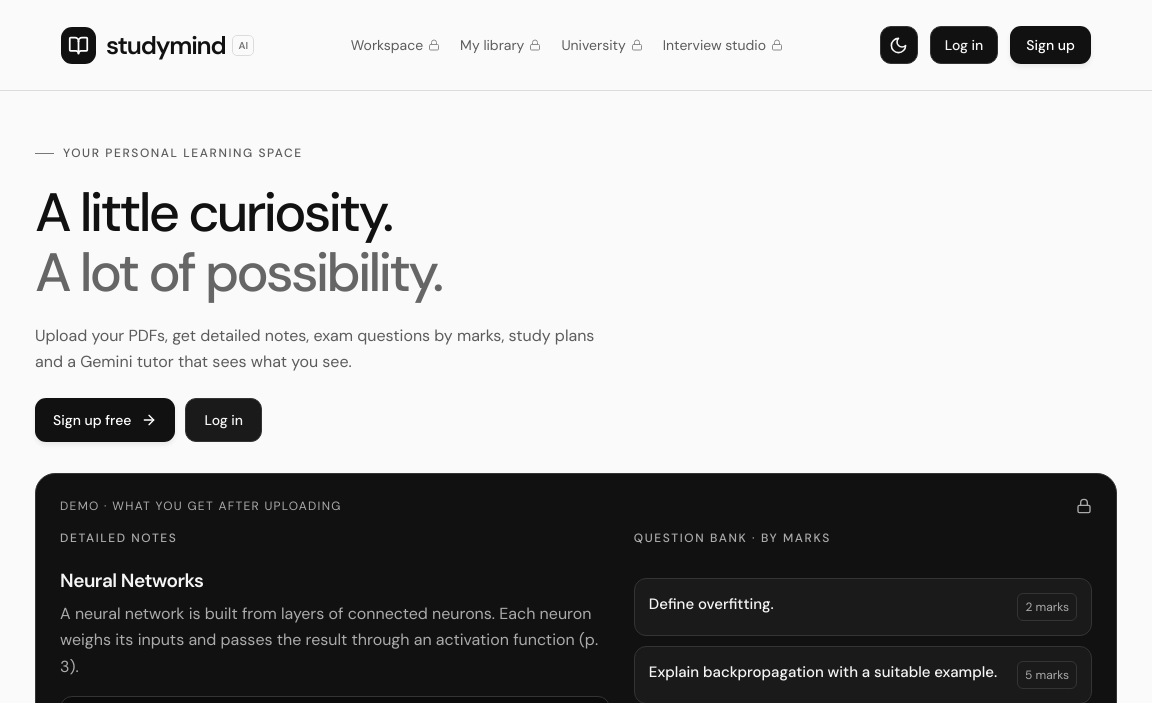
Test case: login gate and demo page › opens sign up and log in as a floating card at the top right
Click the button "Sign up".
click(1051, 45)  # box top-left (1010, 26), bottom-right (1091, 64)
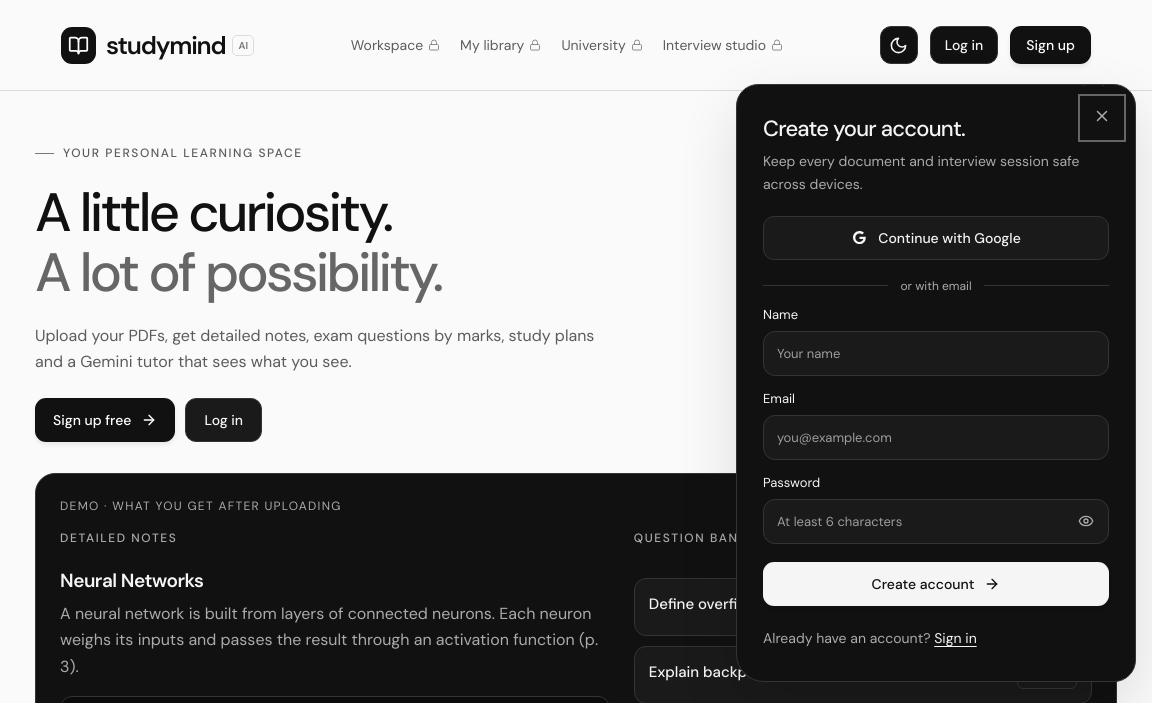
Now the heading "Create your account." is shown, box top-left (763, 114), bottom-right (965, 143)
Now the button "Continue with Google" is shown, box top-left (763, 216), bottom-right (1109, 260)
Click the 1st button "Log in".
click(964, 45)  # box top-left (930, 26), bottom-right (998, 64)
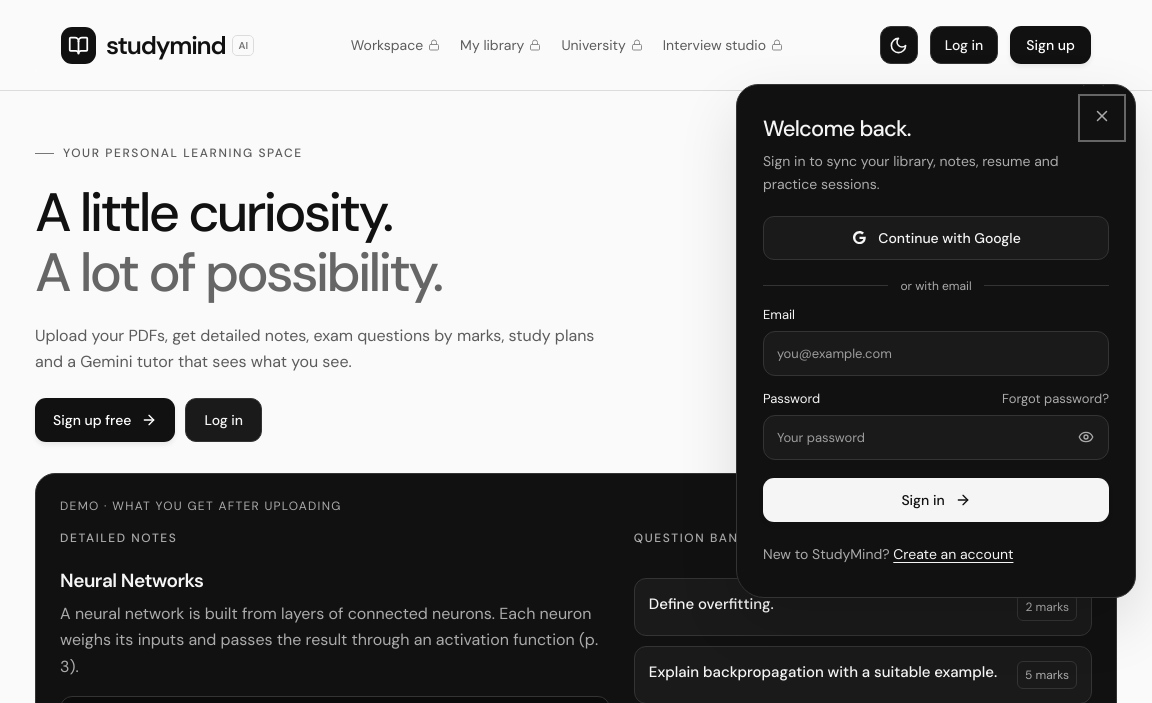
Now the button "Forgot password?" is shown, box top-left (1002, 390), bottom-right (1109, 407)
Now the heading "Welcome back." is shown, box top-left (763, 114), bottom-right (911, 143)
